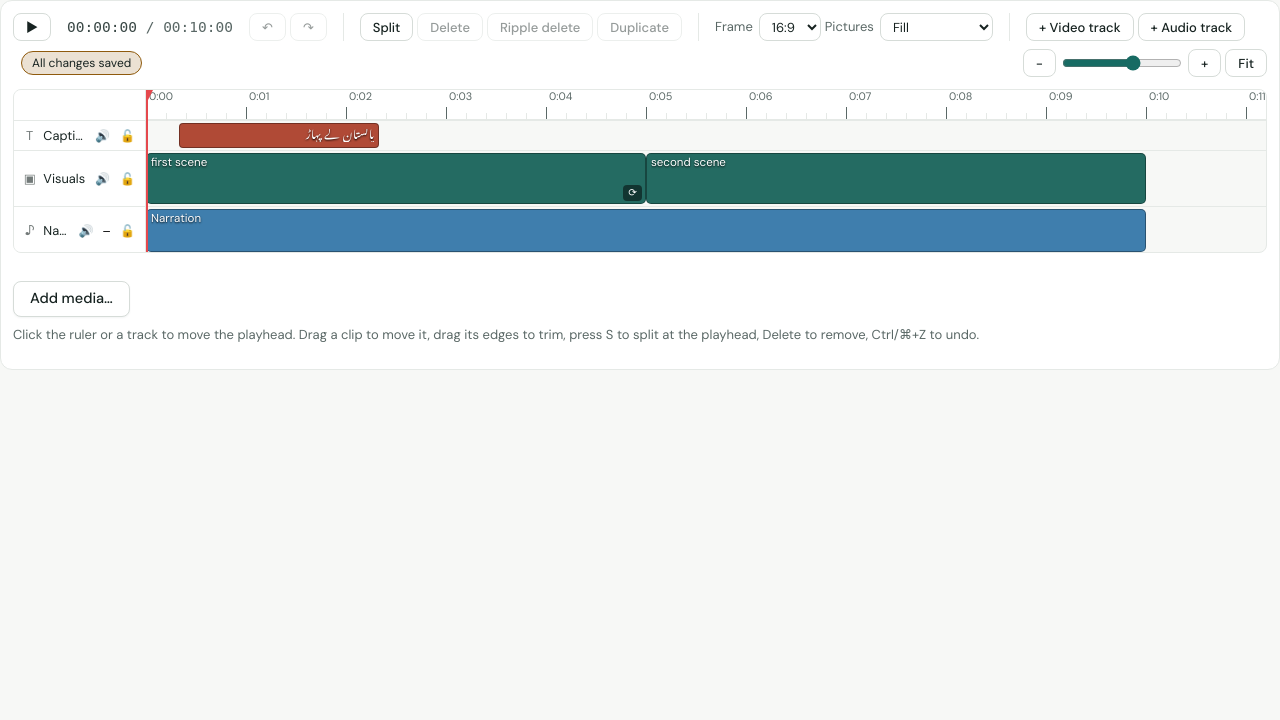
Media bin › lists the project's own files
expect the element named "Timeline" is shown: met, box [0,0,1279,370]
Click the button "Add media…" at [71, 299], box [13,281,130,317]
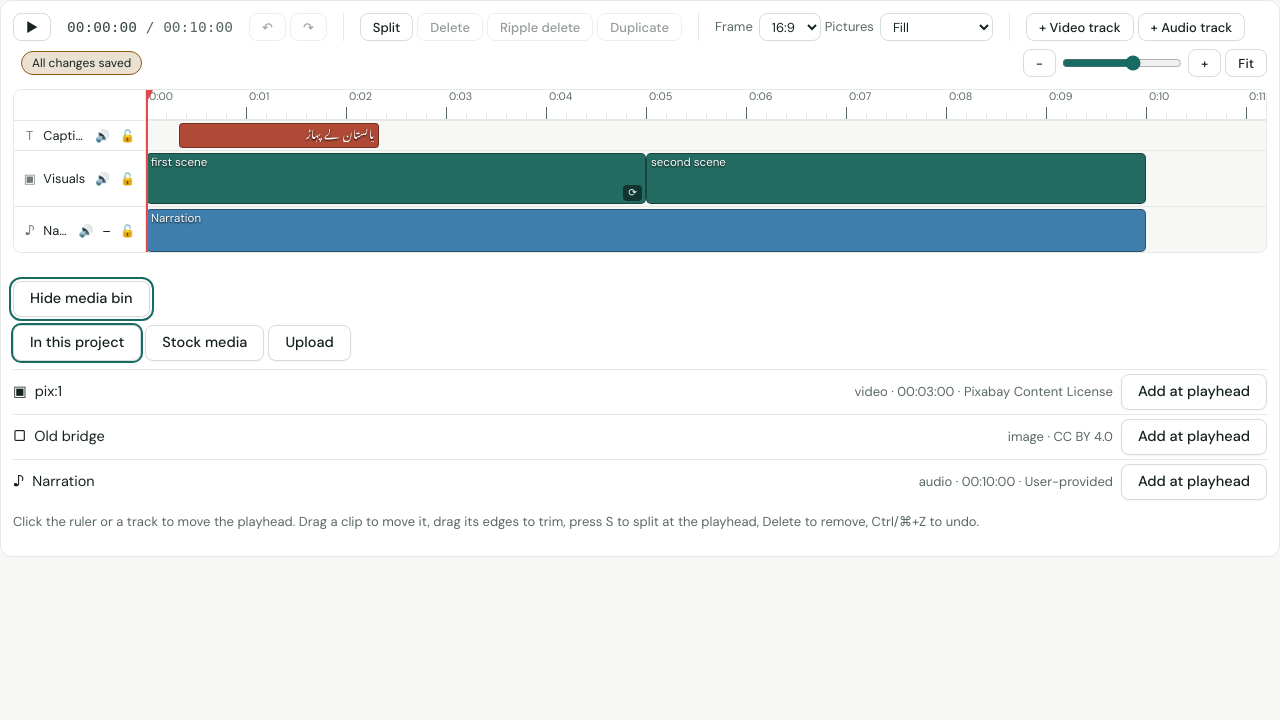
expect the number of list items is 3: met, box [13,369,1267,414]; [13,414,1267,459]; [13,459,1267,504]
